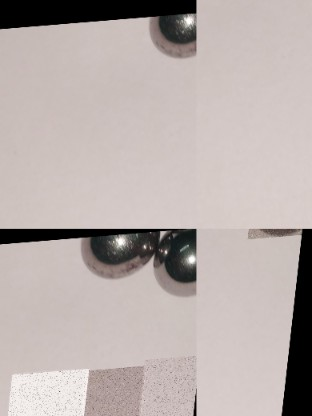ironball: (9, 371, 93, 415), (77, 234, 159, 279), (83, 369, 150, 415), (154, 224, 195, 299), (142, 360, 196, 415), (145, 15, 193, 57), (250, 228, 310, 243)
